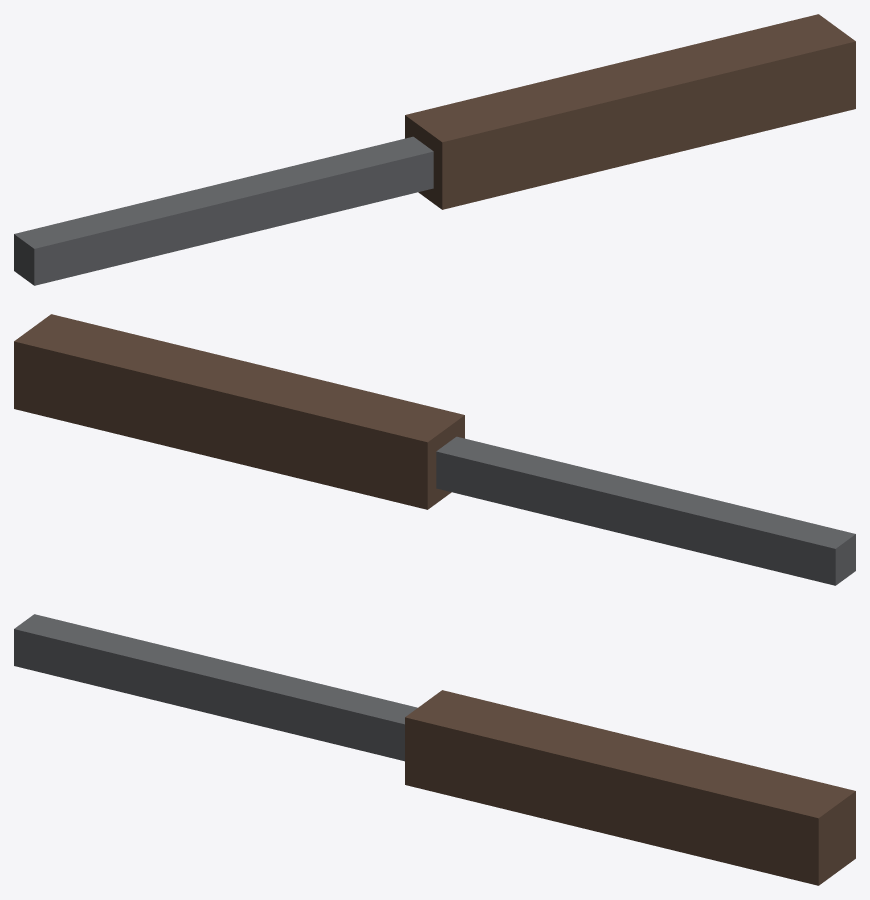
The model's file is handle.fbx.
3 renders of one model, top to bottom at view 1: azimuth 30°, elevation 25°; view 2: azimuth 150°, elevation 25°; view 3: azimuth 330°, elevation 25°, orthographic.
Parts seen in each view (by area): view 1: handle; view 2: handle; view 3: handle.
Boxes of the visible parts, box(x1,y1,x2,y2) form: handle: box(14, 14, 855, 285); handle: box(14, 314, 855, 585); handle: box(14, 614, 855, 885).
Size of the model in its own units: 39.73 by 3.16 by 3.16.
Materials: 1 (1 with a texture image).
